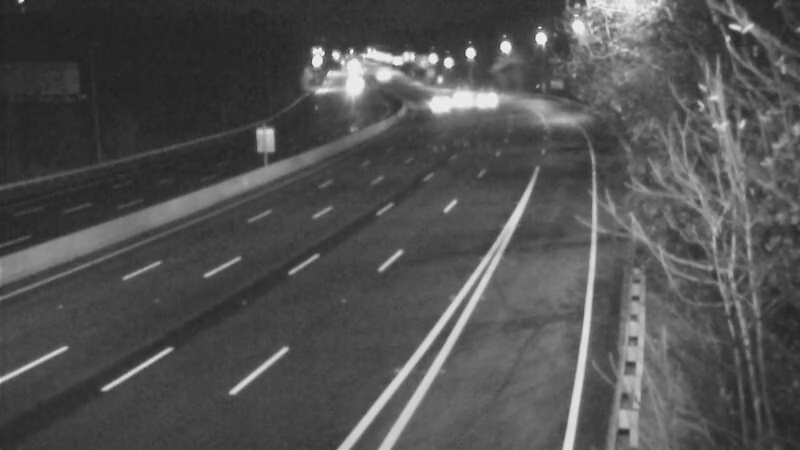vehicle: (441, 75, 491, 125), (410, 78, 460, 128), (460, 75, 510, 125), (330, 63, 380, 113)
